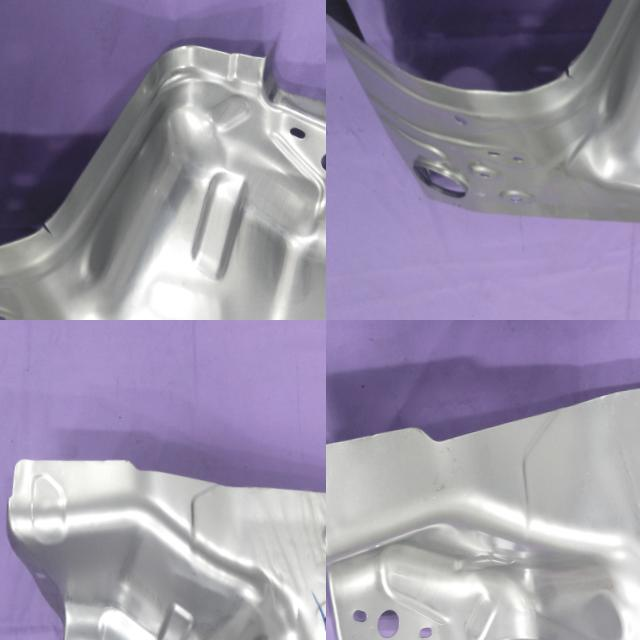Defect: (554, 51, 579, 97), (40, 216, 59, 249)
Healthy: (326, 351, 640, 640), (1, 436, 326, 640)
